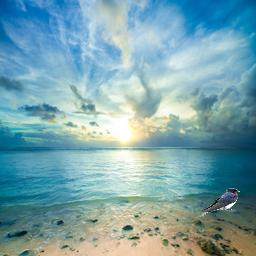Swallow: (196, 188, 240, 219)
